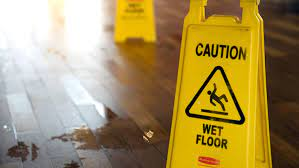wet caution sign: (171, 4, 271, 168), (108, 0, 159, 43)
